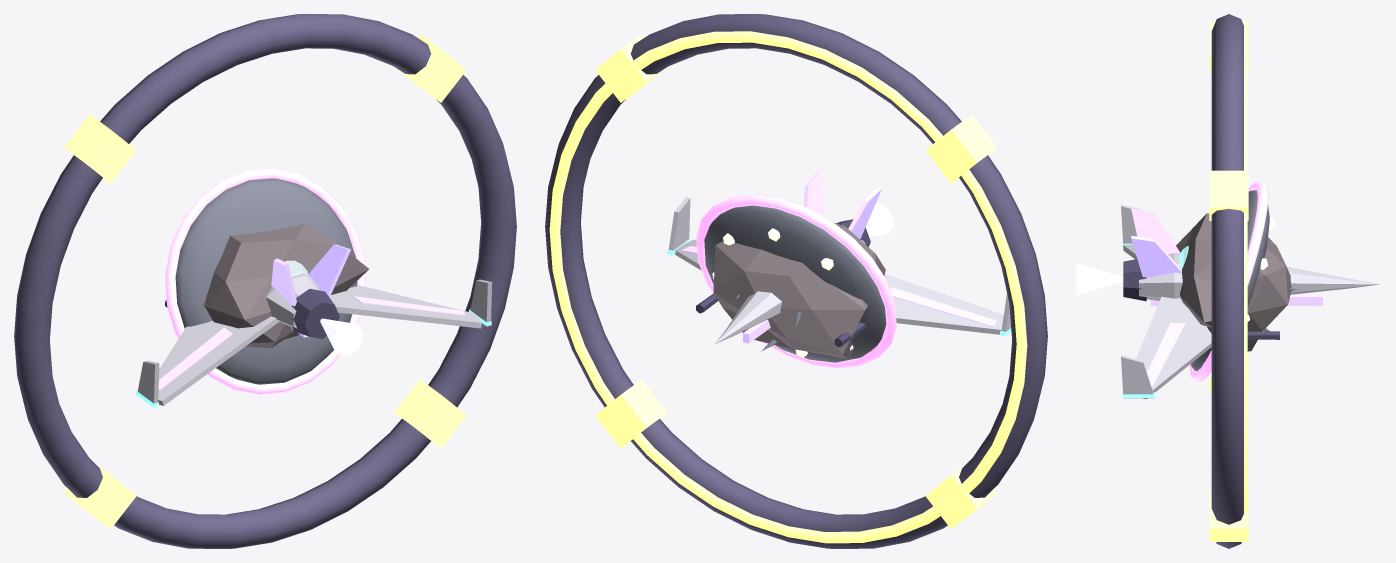
File: invasao-hiragana.glb
3 renders of one model, left to right at view 1: azimuth 30°, elevation 25°; view 2: azimuth 150°, elevation 25°; view 3: azimuth 270°, elevation 25°, orthographic. The views are drawn at different scales.
Parts seen in each view (by area): view 1: PortalAro, Disco, Rocha, InvasorAnel, AsaE, AsaD, PortalMarca1, PortalMarca3, PortalMarca0, PortalMarca2, Motor, EstabilizadorD (+7 smaller); view 2: PortalAro, PortalLuz, Rocha, Disco, InvasorAnel, AsaE, PortalMarca1, PortalMarca3, PortalMarca0, PortalMarca2, Fuselagem, FaixaAsaE (+4 smaller); view 3: PortalAro, Rocha, AsaD, Fuselagem, PortalLuz, PortalMarca0, InvasorAnel, EstabilizadorD, Disco, PortalMarca3, EstabilizadorE, AletaD (+5 smaller).
Boxes of the visible parts, x1,y1,x2,y2 form: PortalAro: [14, 14, 516, 548]; Disco: [175, 178, 357, 384]; Rocha: [202, 223, 368, 348]; InvasorAnel: [165, 168, 365, 394]; AsaE: [158, 316, 279, 405]; AsaD: [330, 285, 482, 328]; PortalMarca1: [64, 114, 136, 183]; PortalMarca3: [394, 379, 466, 448]; PortalMarca0: [395, 34, 466, 102]; PortalMarca2: [64, 465, 136, 528]; Motor: [291, 288, 339, 338]; EstabilizadorD: [308, 244, 350, 297]; PortalAro: [545, 14, 1047, 548]; PortalLuz: [549, 31, 1027, 543]; Rocha: [713, 222, 885, 358]; Disco: [704, 205, 886, 362]; InvasorAnel: [696, 194, 896, 368]; AsaE: [884, 274, 1003, 334]; PortalMarca1: [925, 114, 997, 183]; PortalMarca3: [595, 379, 667, 448]; PortalMarca0: [595, 34, 666, 102]; PortalMarca2: [925, 465, 997, 528]; Fuselagem: [714, 240, 865, 344]; FaixaAsaE: [890, 287, 996, 327]; PortalAro: [1211, 14, 1243, 548]; Rocha: [1176, 213, 1291, 351]; AsaD: [1136, 296, 1211, 399]; Fuselagem: [1139, 253, 1380, 300]; PortalLuz: [1244, 26, 1247, 513]; PortalMarca0: [1209, 170, 1248, 220]; InvasorAnel: [1189, 181, 1268, 381]; EstabilizadorD: [1131, 236, 1181, 277]; Disco: [1191, 190, 1269, 370]; PortalMarca3: [1209, 491, 1248, 541]; EstabilizadorE: [1131, 208, 1180, 254]; AletaD: [1121, 355, 1154, 398].
Bounding box in the file's own units: 6.84 × 6.84 × 3.9.
